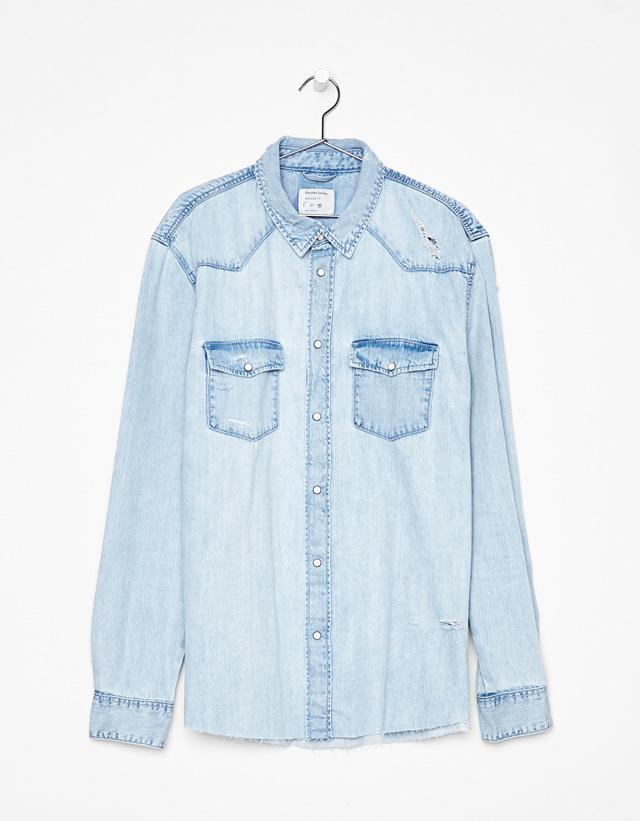teeshirt: (60, 139, 577, 765)
